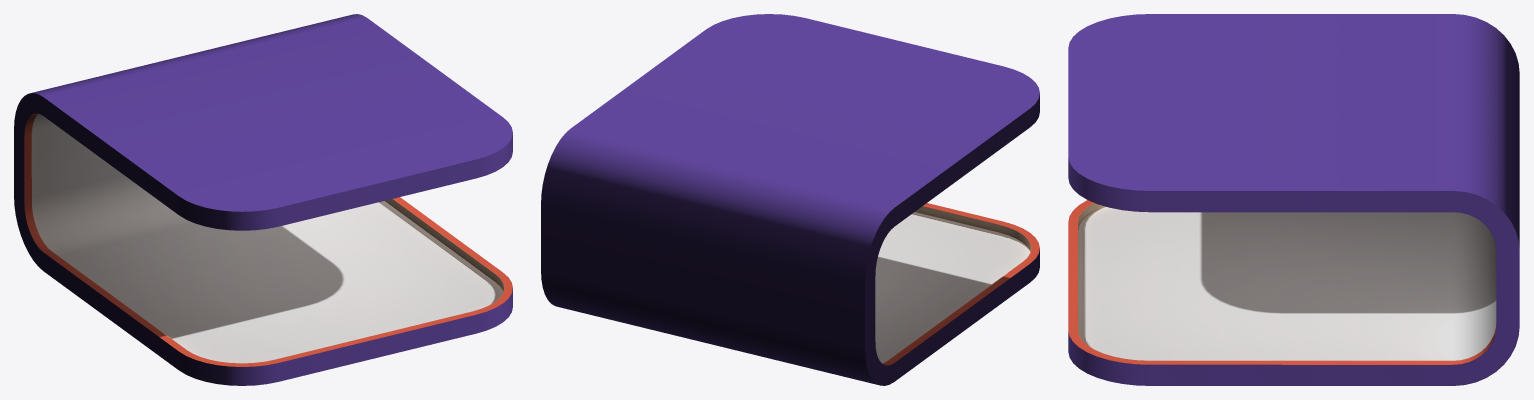
Rendered from TestObject.glb.
The picture shows the model from 3 angles, left to right: view 1: azimuth 30°, elevation 25°; view 2: azimuth 150°, elevation 25°; view 3: azimuth 270°, elevation 25°; orthographic projection. The views are drawn at different scales.
Visible parts, largest first — view 1: House; view 2: House; view 3: House.
Boxes of the visible parts, x1,y1,x2,y2 form: House: (14, 14, 512, 385); House: (541, 14, 1039, 385); House: (1068, 14, 1519, 385).
Size of what is drawn, in the model's own units: 6.32 by 3.24 by 6.81.
1 material, 1 textured.
